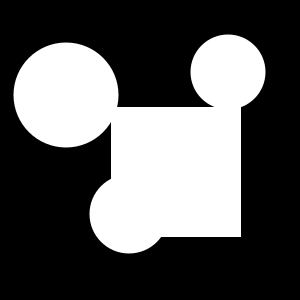circle: (111, 107, 241, 237)
rectangle: (14, 42, 118, 148), (90, 175, 168, 254), (190, 34, 266, 110)
